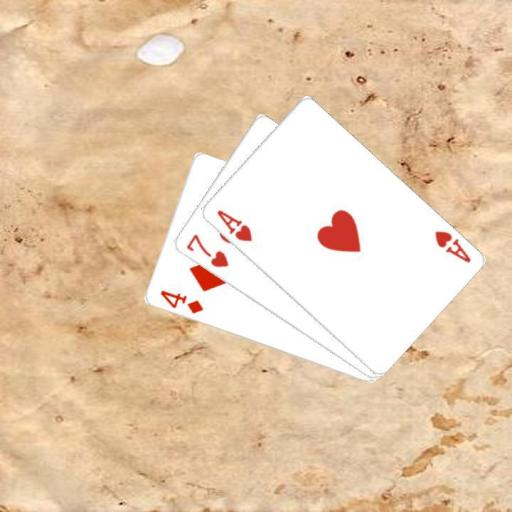4D: (157, 287, 204, 316)
7H: (183, 231, 230, 270)
AH: (213, 206, 254, 243), (431, 228, 472, 265)
